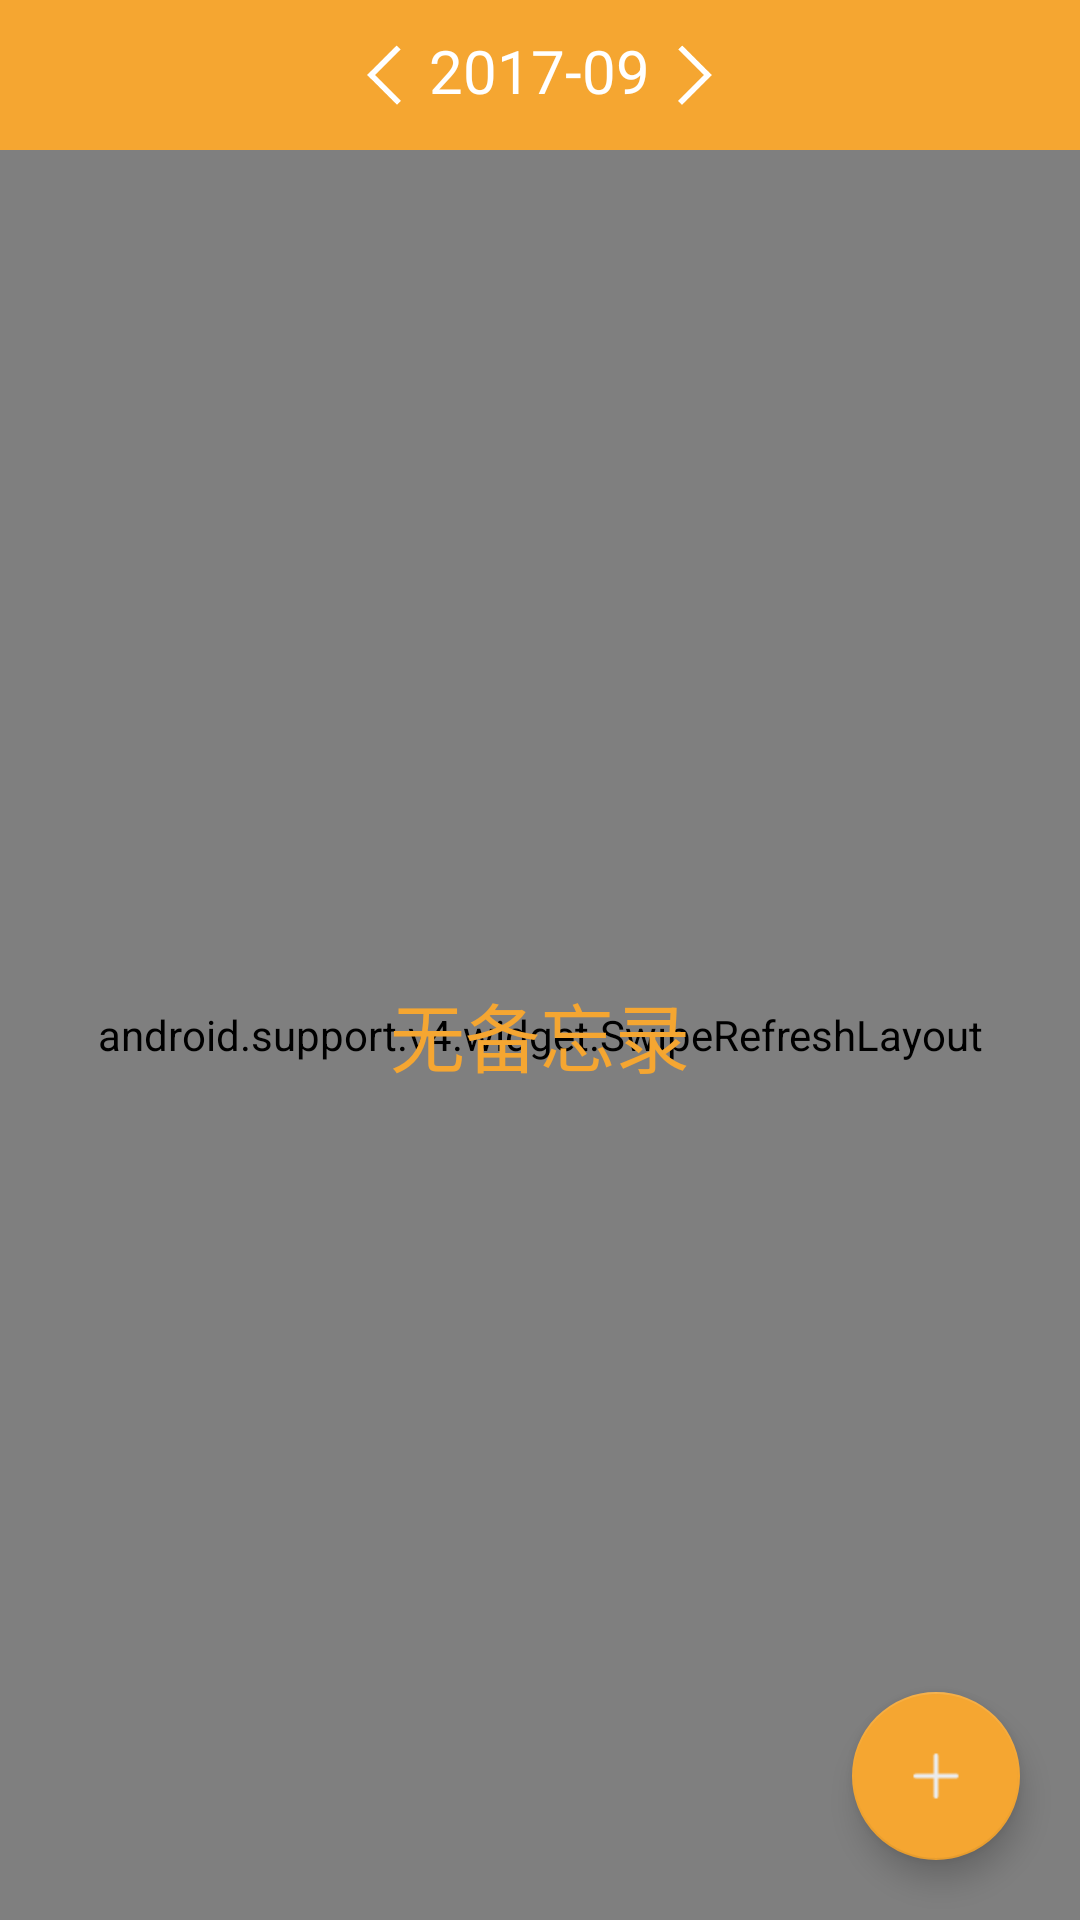

Icon bounding boxes for this 1080×1920 phone screenshot, format (x1, y1, x2, y2):
add any: (852, 1692, 1020, 1860)
left: (367, 45, 401, 105)
right: (678, 45, 712, 105)
